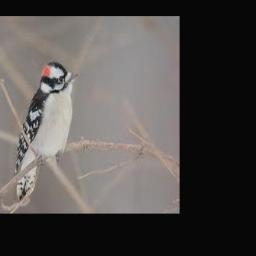Woodpecker: (15, 62, 78, 202)
